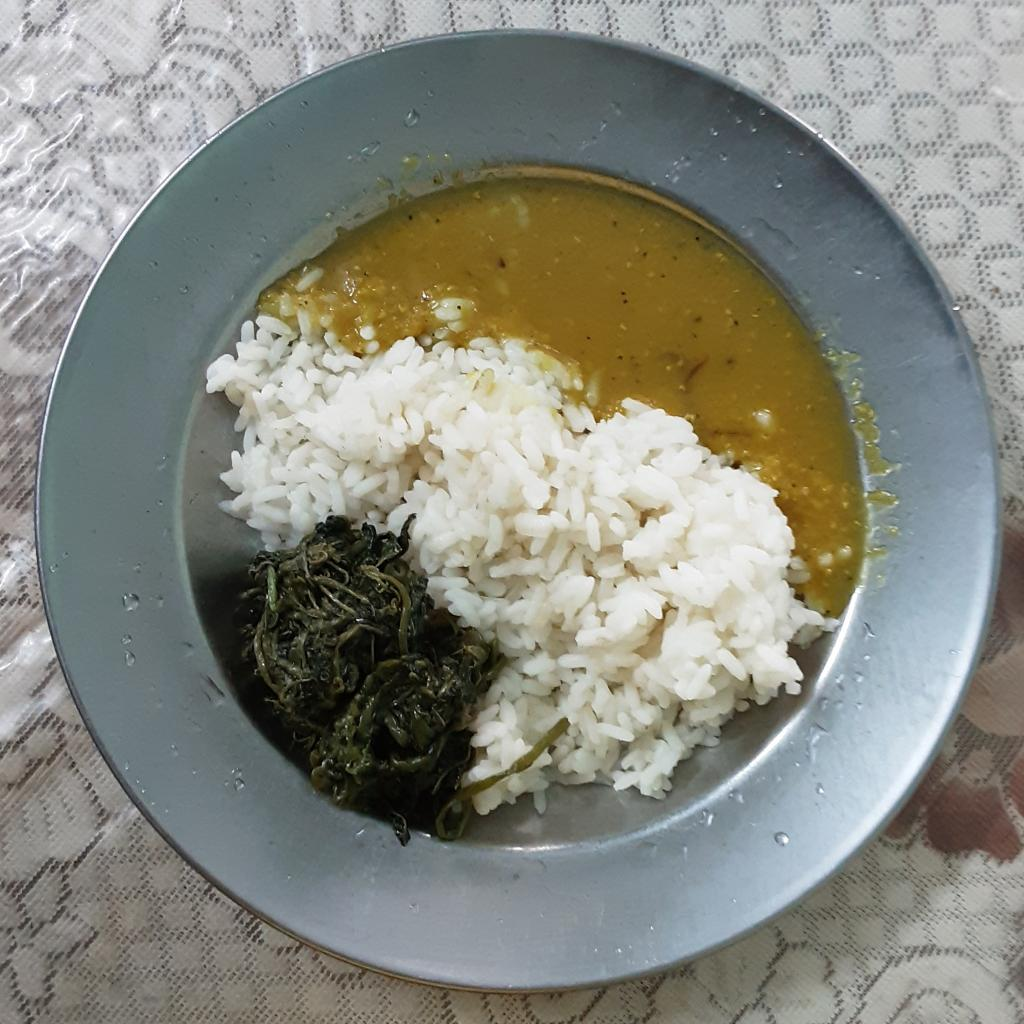daal: (261, 172, 869, 623)
rice: (198, 307, 827, 820)
shak: (243, 519, 494, 844)
